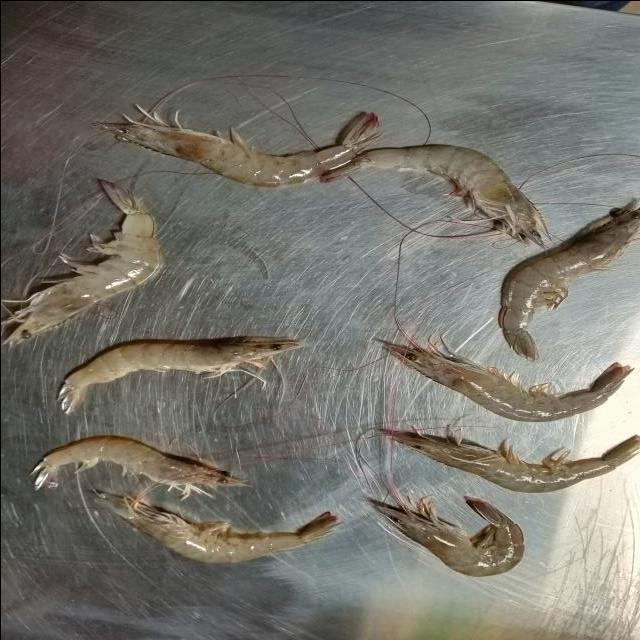shrimp: (5, 180, 160, 342), (319, 143, 549, 246), (498, 208, 640, 358), (100, 112, 379, 188), (388, 344, 631, 421), (58, 339, 301, 410), (390, 431, 640, 491), (107, 498, 337, 561), (33, 435, 239, 492), (377, 498, 523, 575)
